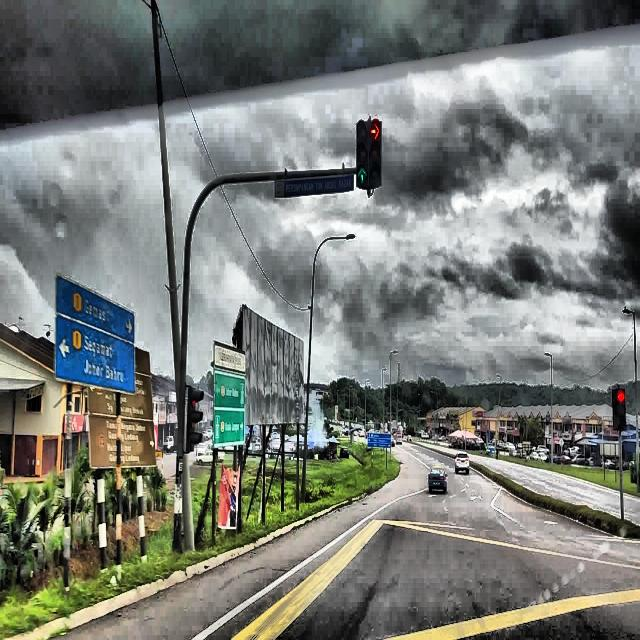green: (356, 121, 369, 187)
red: (369, 118, 381, 187), (616, 387, 627, 428)
